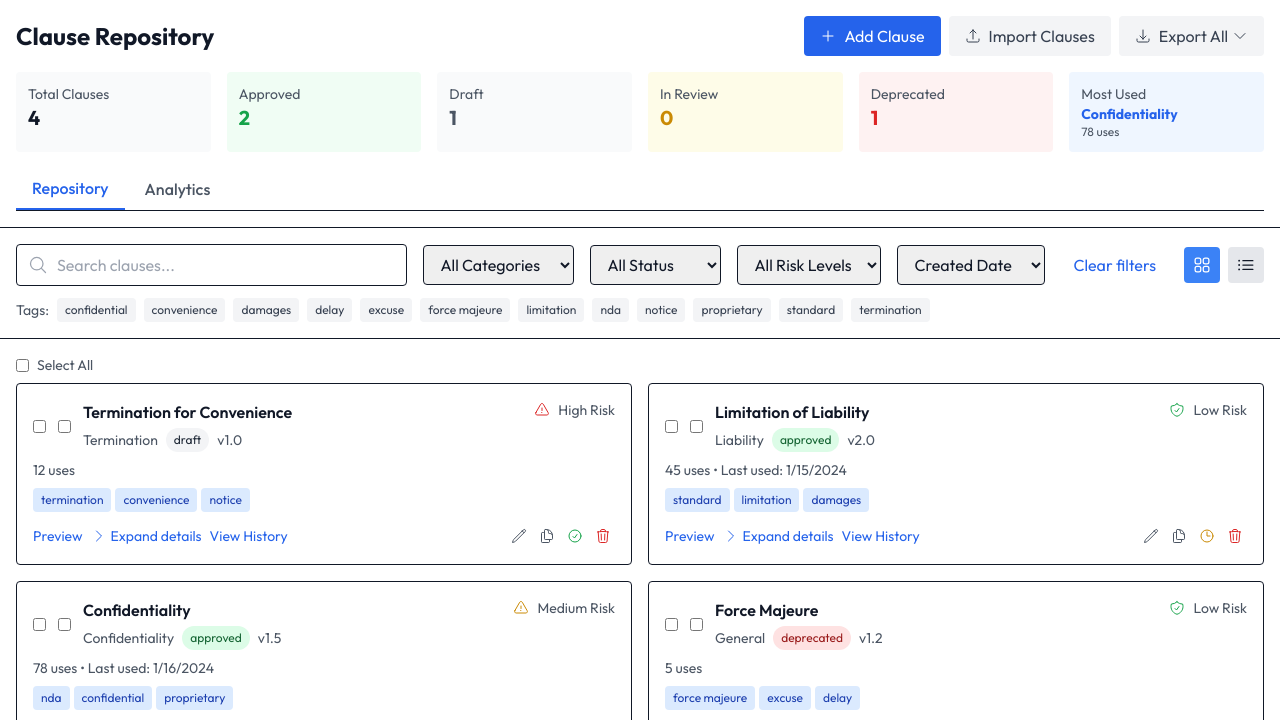
ClauseRepository › Bulk Operations › should select multiple clauses
Click the checkbox labelled "Select All" at (22, 365), box top-left (16, 358), bottom-right (29, 372)
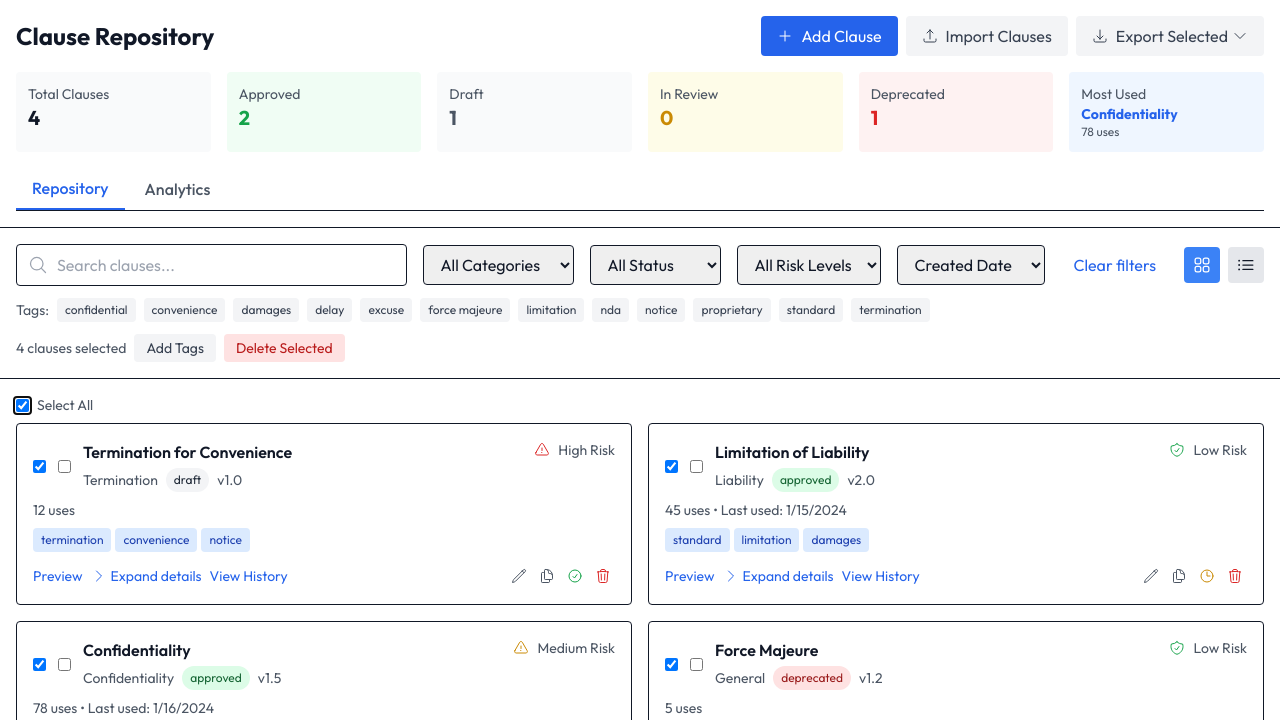
Expected: the text "4 clauses selected" is shown, top-left (16, 338), bottom-right (126, 358)
